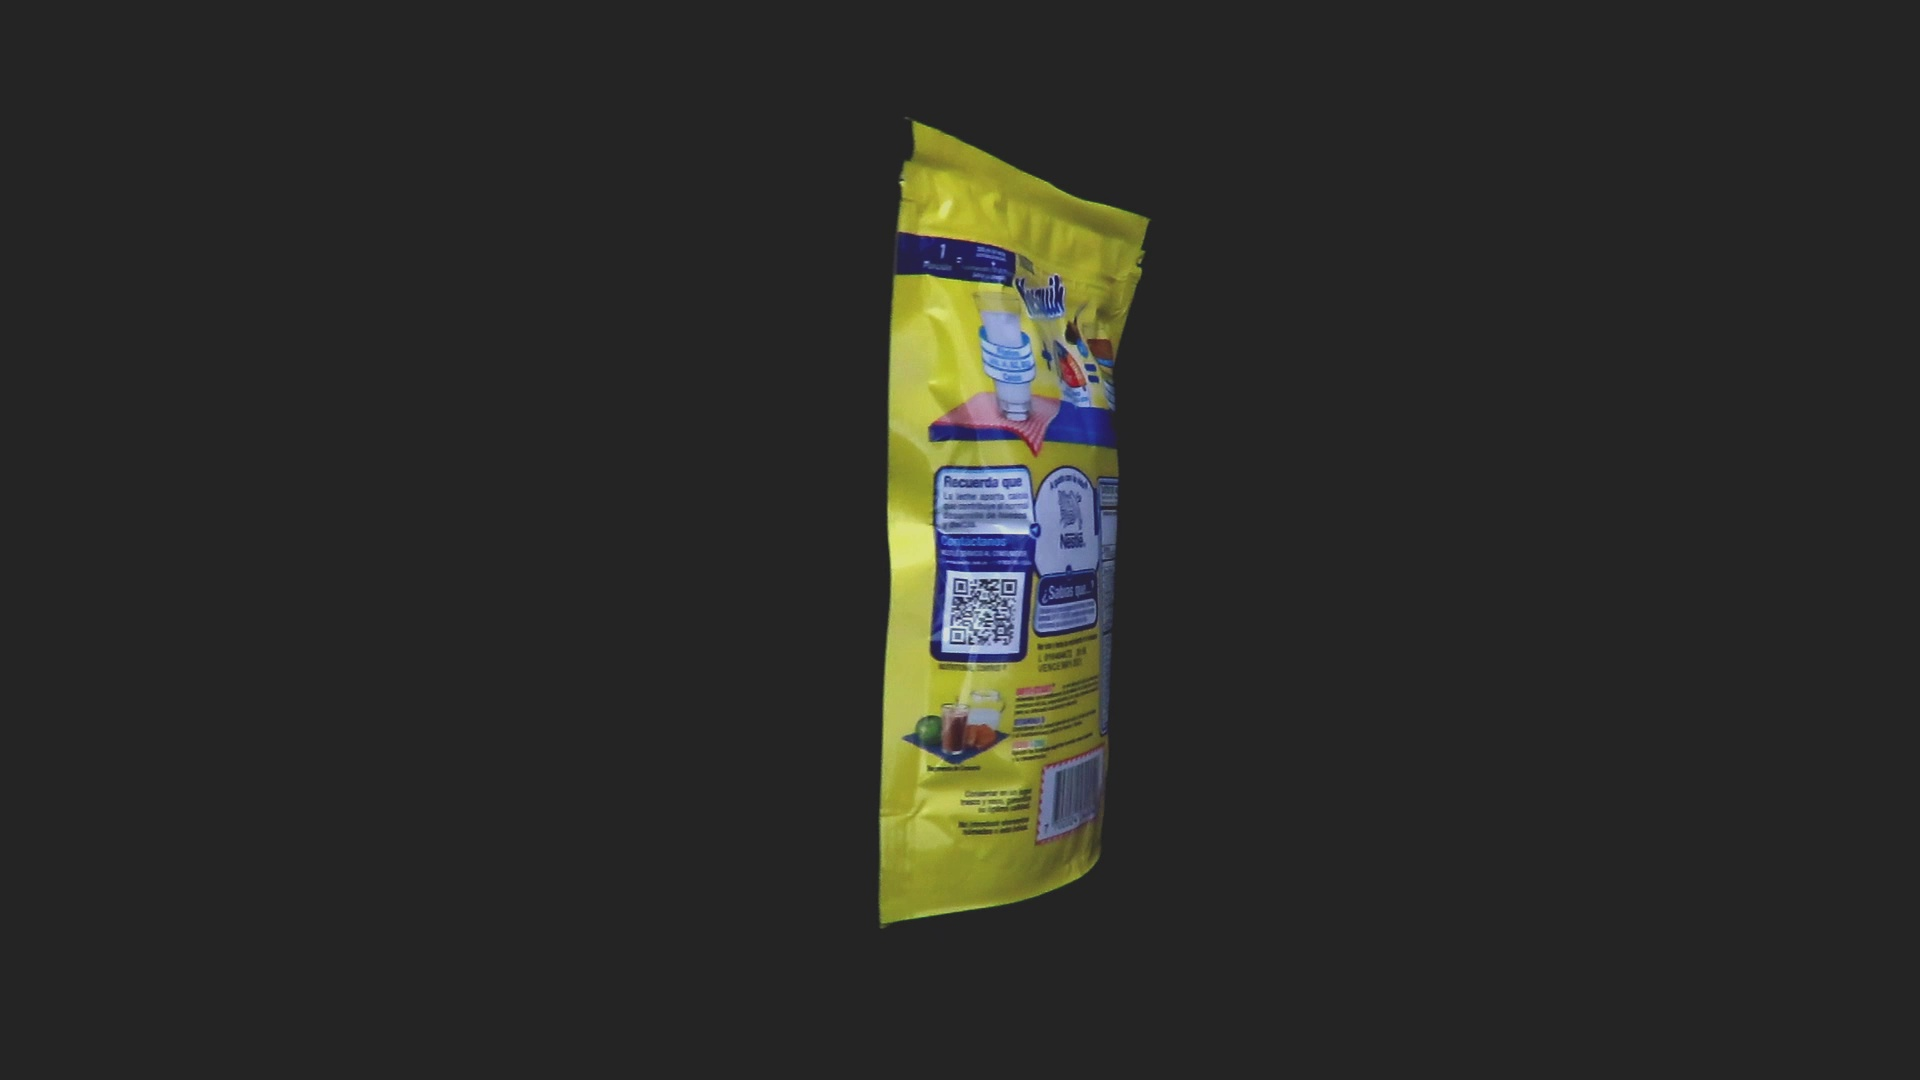COL0170303DYP20000: (873, 116, 1156, 935)
